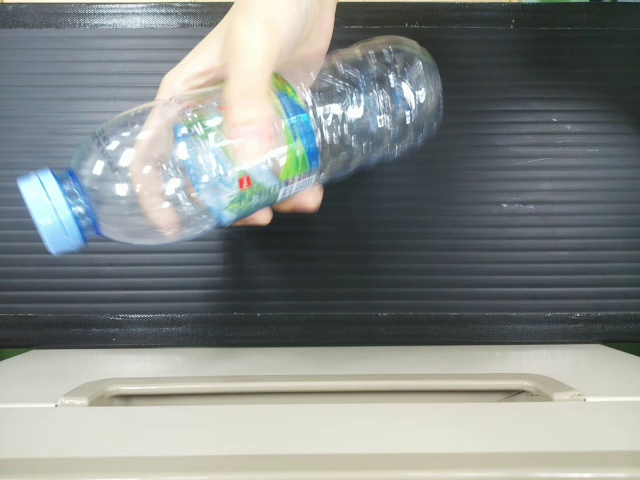bottle: (10, 44, 442, 255)
